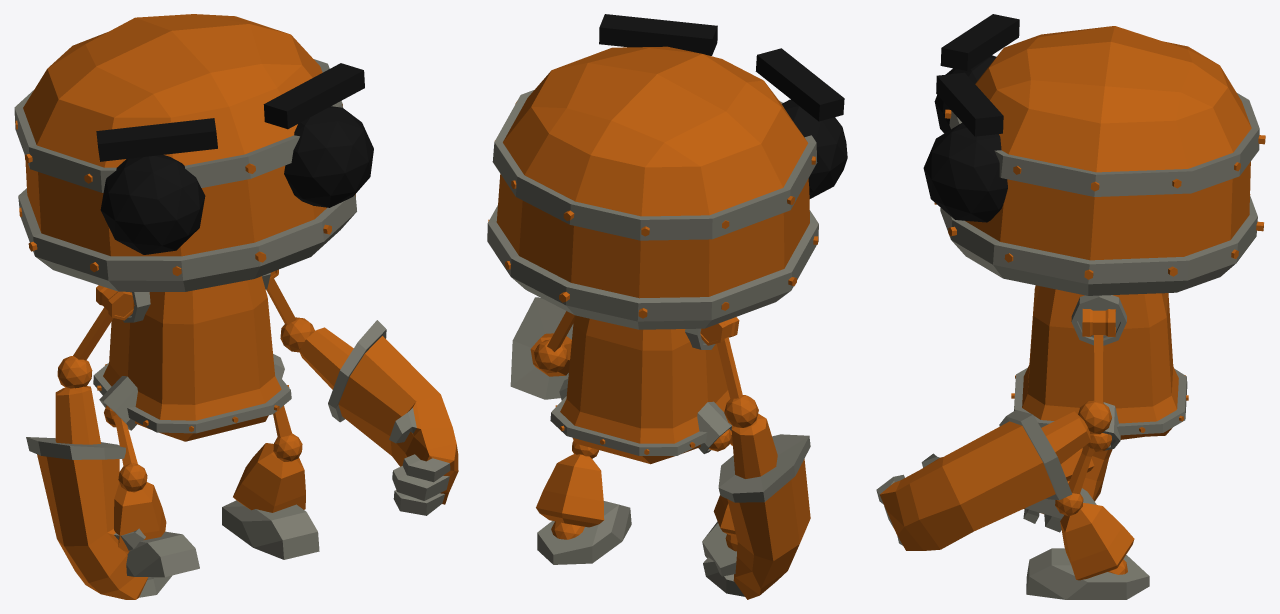
The model's file is Robot_000018.obj.
The picture shows the model from 3 angles, left to right: view 1: azimuth 30°, elevation 25°; view 2: azimuth 150°, elevation 25°; view 3: azimuth 270°, elevation 25°; orthographic projection. The views are drawn at different scales.
Visible parts, largest first — view 1: Head_Cylinder, Torso_Cube.001, Hand.L_Cylinder.022, Hand.R_Cylinder.015, Foot.L_Cylinder.014, LowerLeg.L_Cylinder.012, Foot.R_Cylinder.017, LowerLeg.R_Cylinder.018, Arm.R_Cylinder.013, Arm.L_Cylinder.010, Leg.R_Cylinder.019, Leg.L_Cylinder.011 (+1 smaller); view 2: Head_Cylinder, Torso_Cube.001, Hand.R_Cylinder.015, LowerLeg.L_Cylinder.012, Hand.L_Cylinder.022, Foot.L_Cylinder.014, Arm.R_Cylinder.013, Arm.L_Cylinder.010, Foot.R_Cylinder.017, LowerLeg.R_Cylinder.018, Shoulder.R_Cylinder.009; view 3: Head_Cylinder, Torso_Cube.001, Hand.L_Cylinder.022, Foot.L_Cylinder.014, LowerLeg.L_Cylinder.012, Arm.L_Cylinder.010, Hand.R_Cylinder.015, Leg.L_Cylinder.011, Shoulder.L_Cylinder.008, Foot.R_Cylinder.017.
Part boxes in pixels (x1=…): Head_Cylinder: x1=14, y1=14, x2=373, y2=291; Torso_Cube.001: x1=93, y1=273, x2=291, y2=441; Hand.L_Cylinder.022: x1=299, y1=320, x2=458, y2=515; Hand.R_Cylinder.015: x1=26, y1=386, x2=172, y2=599; Foot.L_Cylinder.014: x1=222, y1=500, x2=319, y2=559; LowerLeg.L_Cylinder.012: x1=233, y1=443, x2=305, y2=512; Foot.R_Cylinder.017: x1=126, y1=531, x2=199, y2=577; LowerLeg.R_Cylinder.018: x1=114, y1=482, x2=166, y2=553; Arm.R_Cylinder.013: x1=57, y1=307, x2=113, y2=388; Arm.L_Cylinder.010: x1=266, y1=279, x2=314, y2=352; Leg.R_Cylinder.019: x1=113, y1=414, x2=147, y2=492; Leg.L_Cylinder.011: x1=273, y1=405, x2=302, y2=461; Head_Cylinder: x1=487, y1=14, x2=847, y2=329; Torso_Cube.001: x1=550, y1=315, x2=731, y2=464; Hand.R_Cylinder.015: x1=703, y1=413, x2=810, y2=599; LowerLeg.L_Cylinder.012: x1=536, y1=454, x2=604, y2=539; Hand.L_Cylinder.022: x1=510, y1=297, x2=573, y2=399; Foot.L_Cylinder.014: x1=537, y1=501, x2=631, y2=564; Arm.R_Cylinder.013: x1=717, y1=337, x2=758, y2=427; Arm.L_Cylinder.010: x1=534, y1=311, x2=575, y2=373; Foot.R_Cylinder.017: x1=702, y1=521, x2=736, y2=576; LowerLeg.R_Cylinder.018: x1=713, y1=495, x2=737, y2=551; Shoulder.R_Cylinder.009: x1=700, y1=317, x2=739, y2=345; Head_Cylinder: x1=923, y1=14, x2=1265, y2=295; Torso_Cube.001: x1=1011, y1=285, x2=1188, y2=452; Hand.L_Cylinder.022: x1=876, y1=410, x2=1090, y2=550; Foot.L_Cylinder.014: x1=1026, y1=548, x2=1149, y2=599; LowerLeg.L_Cylinder.012: x1=1060, y1=503, x2=1134, y2=580; Arm.L_Cylinder.010: x1=1078, y1=335, x2=1111, y2=434; Hand.R_Cylinder.015: x1=1023, y1=449, x2=1112, y2=532; Leg.L_Cylinder.011: x1=1055, y1=444, x2=1094, y2=516; Shoulder.L_Cylinder.008: x1=1082, y1=309, x2=1115, y2=337; Foot.R_Cylinder.017: x1=1025, y1=488, x2=1096, y2=518.
Bounding box in the file's own units: 2.94 × 4.43 × 2.99.
